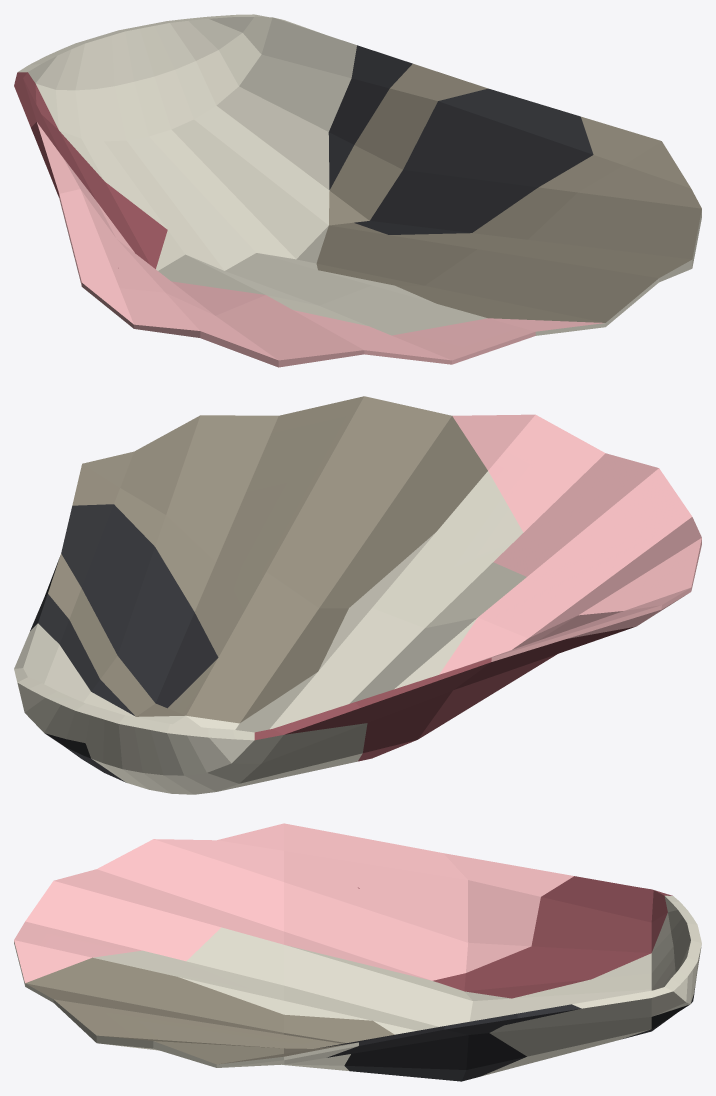
The model's file is ShellTools.fbx.
3 renders of one model, top to bottom at view 1: azimuth 30°, elevation 25°; view 2: azimuth 150°, elevation 25°; view 3: azimuth 270°, elevation 25°, orthographic. The views are drawn at different scales.
Visible parts, largest first — view 1: Plane; view 2: Plane; view 3: Plane.
Part boxes in pixels (x1=…): Plane: x1=14, y1=14, x2=701, y2=367; Plane: x1=14, y1=396, x2=701, y2=794; Plane: x1=14, y1=823, x2=701, y2=1081.
Size of the model in its own units: 186 by 43.5 by 232.
